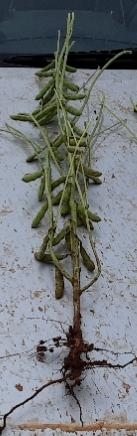soja: (50, 266, 69, 305), (29, 201, 52, 232), (33, 76, 56, 101), (81, 244, 100, 274), (37, 232, 57, 257), (30, 178, 50, 203), (75, 214, 96, 236), (81, 158, 104, 178), (49, 231, 74, 249), (51, 169, 70, 192), (26, 253, 69, 263), (58, 54, 78, 74), (81, 207, 103, 225), (36, 112, 59, 129), (62, 74, 81, 93), (40, 87, 58, 107), (20, 170, 45, 184), (40, 55, 57, 75), (68, 122, 89, 138), (62, 182, 77, 204), (62, 94, 92, 104), (47, 135, 66, 150), (50, 146, 67, 162), (67, 104, 84, 120), (49, 189, 64, 206), (25, 150, 44, 163), (10, 115, 33, 125), (66, 147, 91, 156), (59, 204, 71, 222), (65, 140, 94, 147), (88, 177, 106, 185)
